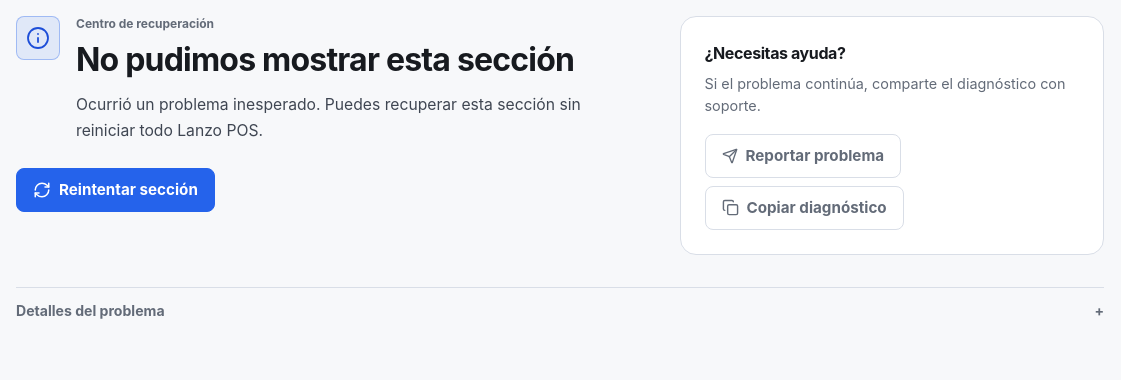
Test case: ErrorBoundary › keeps the panel usable when clipboard access is denied
The width and height of the screenshot is (1121, 380).
Click the button "Copiar diagnóstico": [804, 208] box [704, 186, 904, 230]
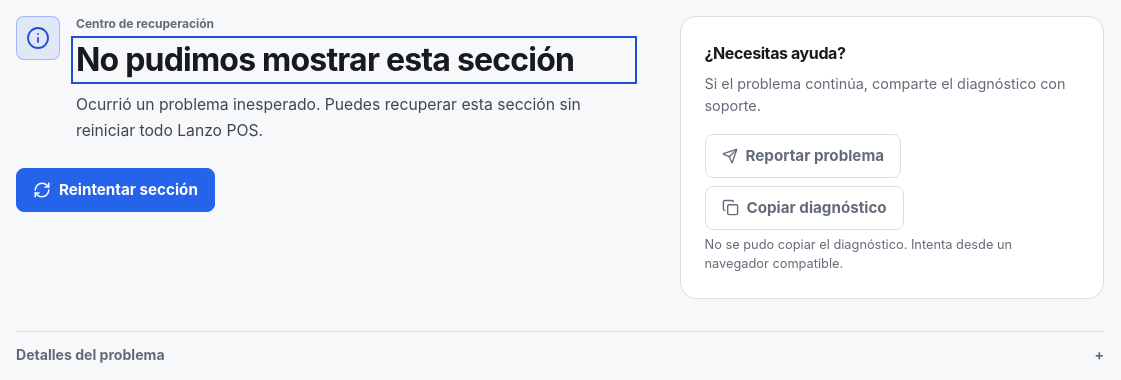
Now the text "No se pudo copiar el diagnóstico. Intenta desde un navegador compatible." is shown, box [704, 237, 1012, 271]
